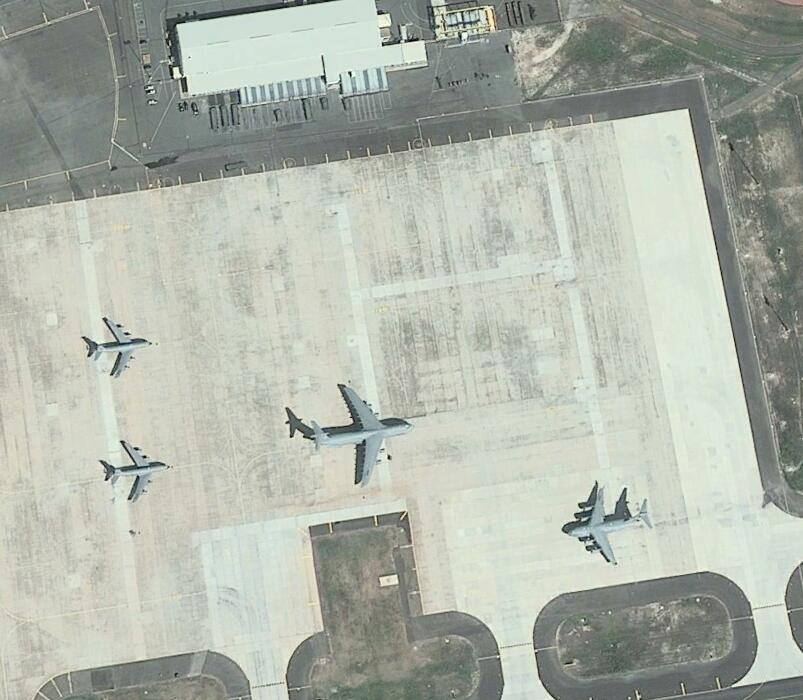A14: (86, 316, 154, 381), (104, 440, 172, 504)
A3: (566, 483, 653, 568)
A4: (306, 381, 422, 488)
